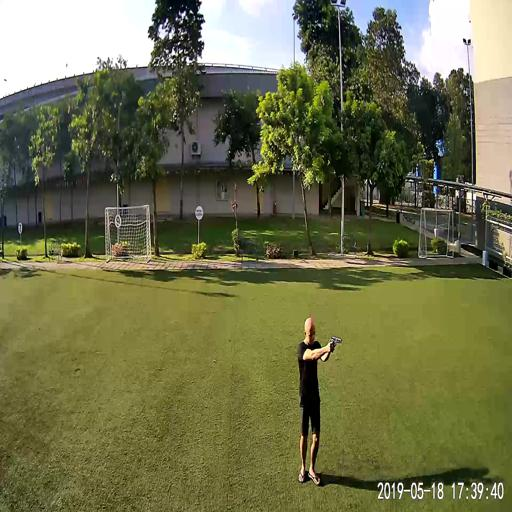pistol: (330, 334, 342, 351)
